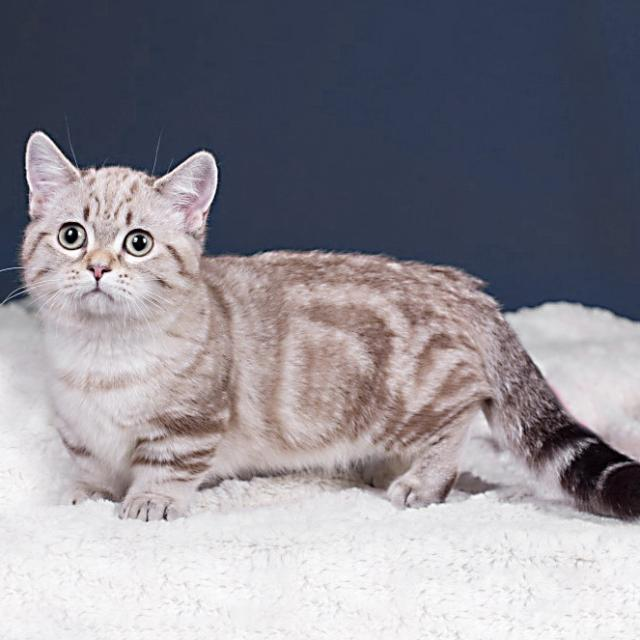Munchkin: (17, 127, 640, 526)
